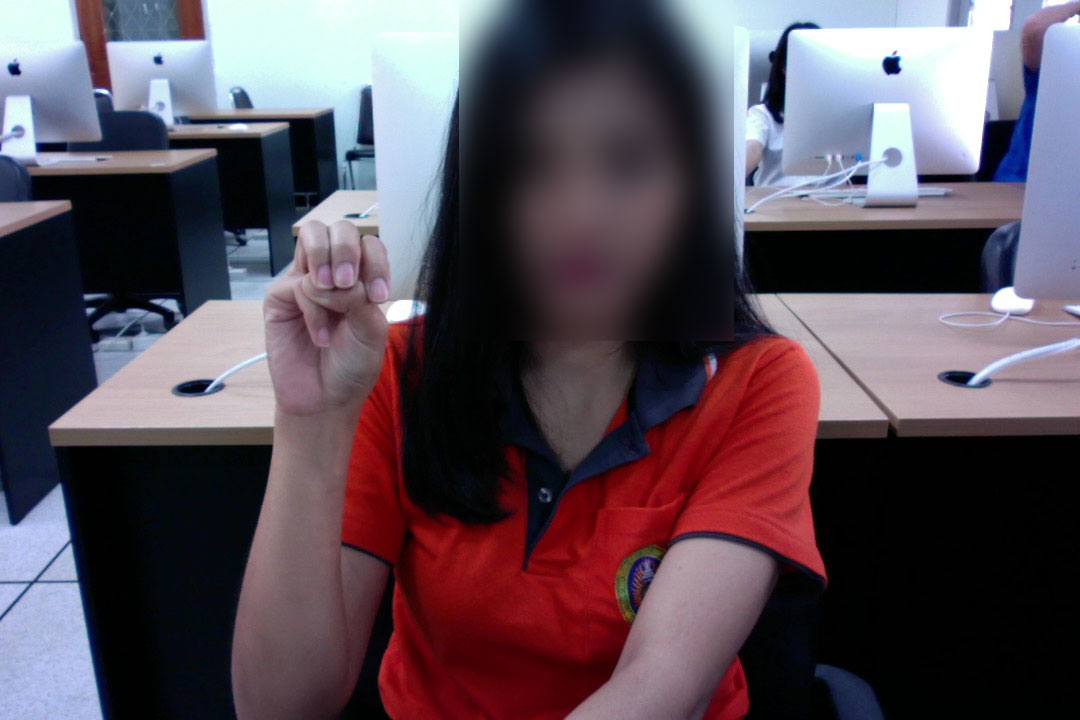mor: (258, 212, 394, 427)
